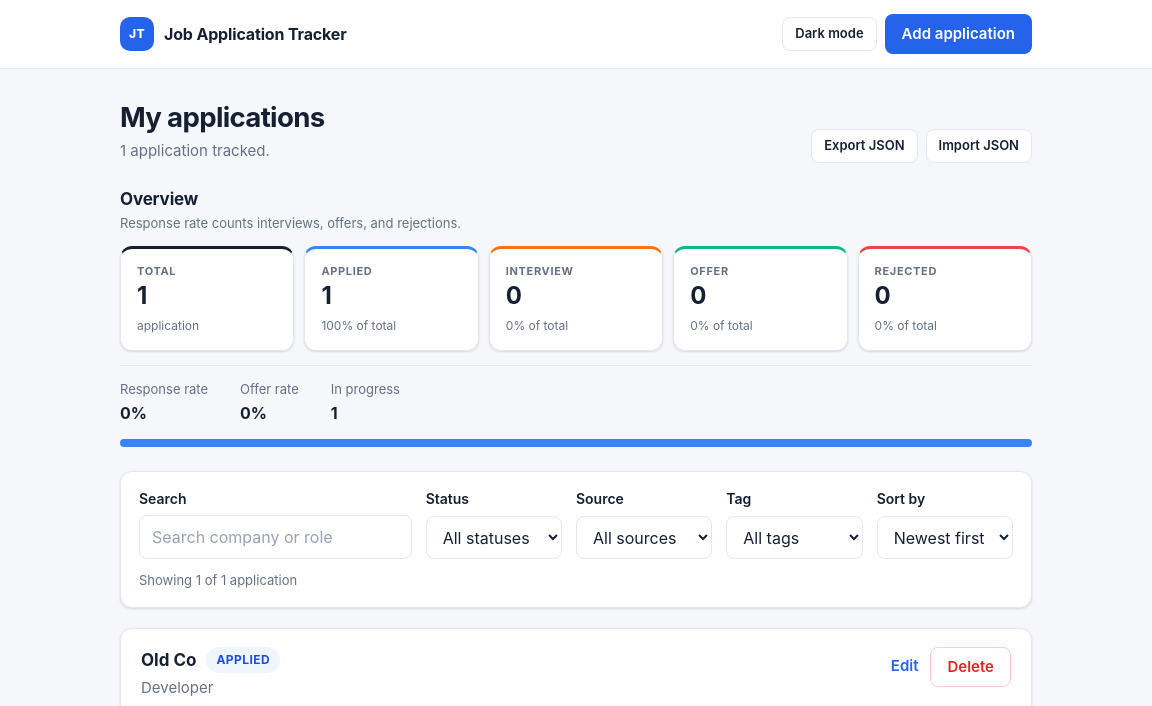
Test: edits an existing job application
This screenshot has width=1152, height=706.
Click the link "Edit" at (905, 667), box [891,655,918,678]
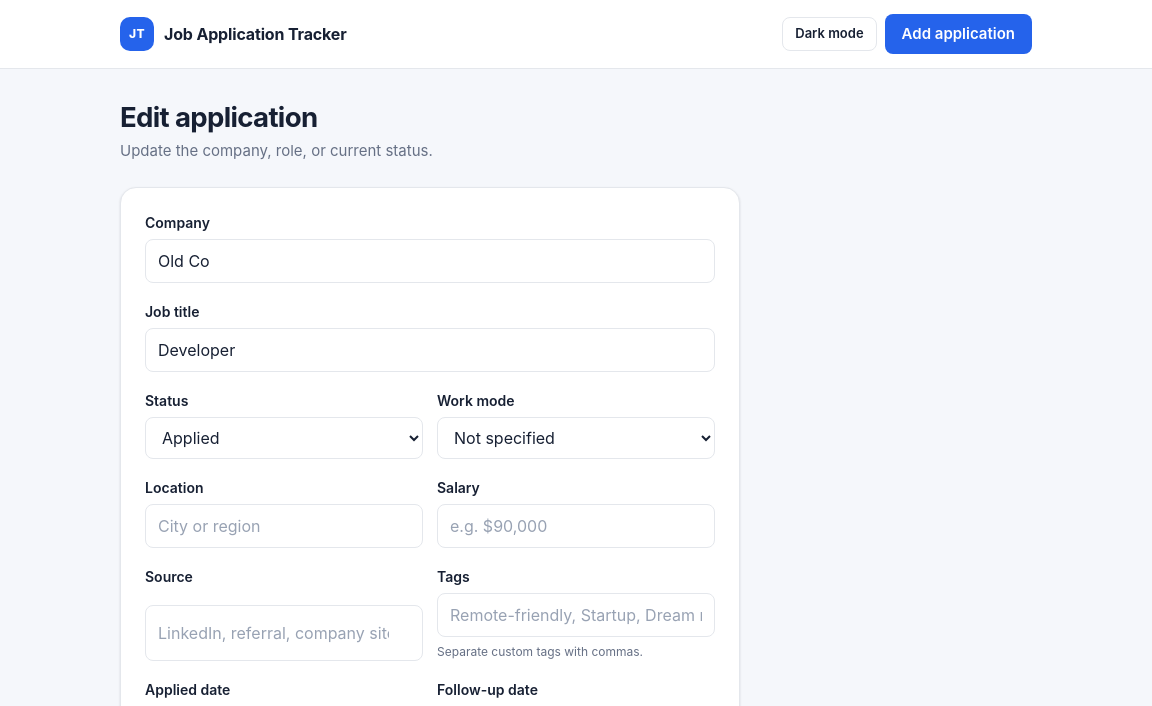
Now the field with placeholder "Company" holds "Old Co"
Replace the text in the field with placeholder "Company" with "New Co" at (430, 261), box [145,239,715,283]
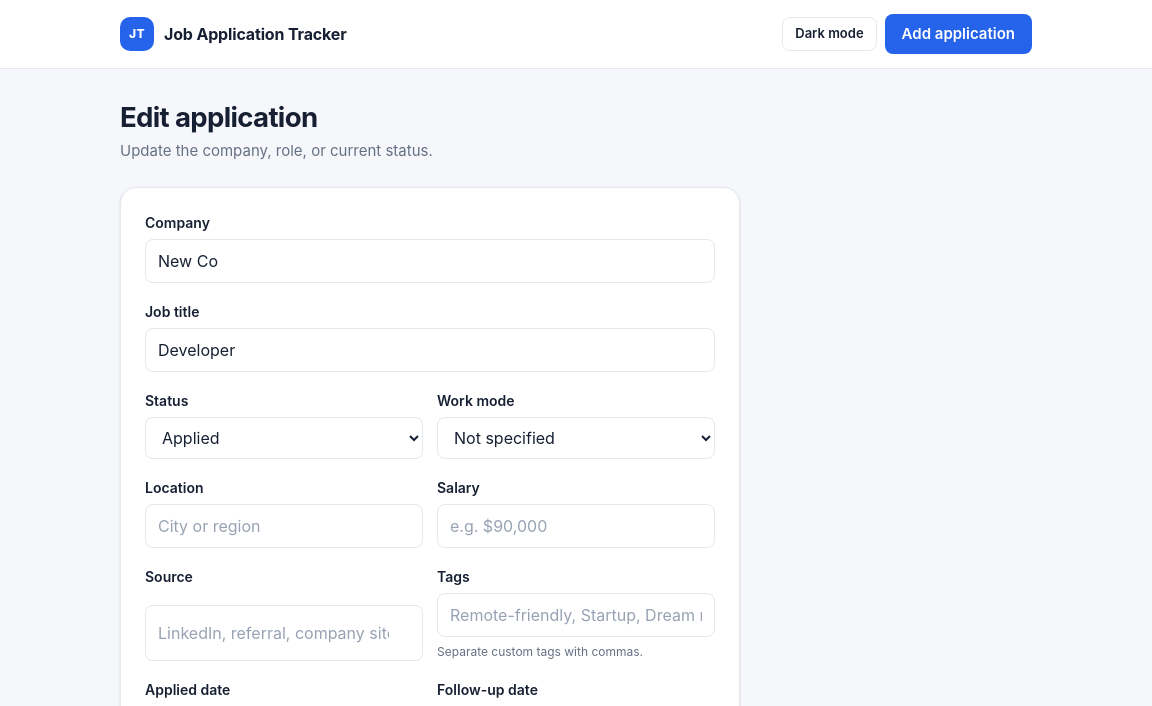
Select "Interview" in the dropdown labelled "Status" at (284, 438), box [145,417,423,459]
(page scrolled)
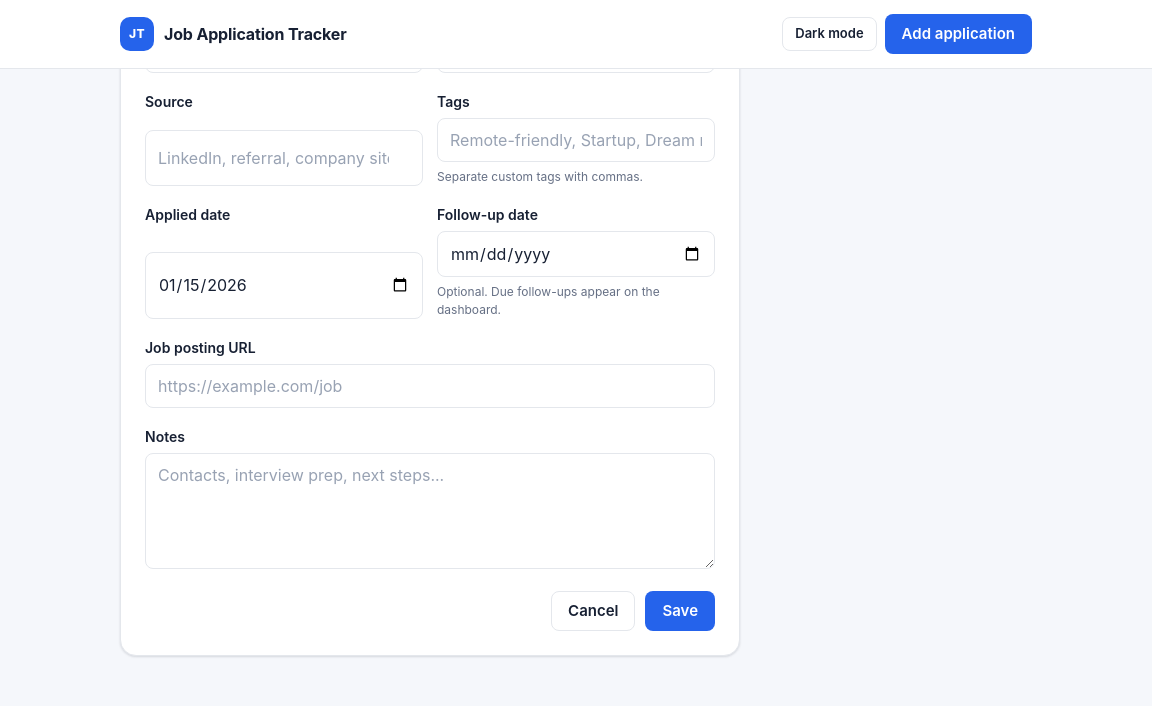
Click the button "Save" at (680, 611), box [646,591,715,631]
(page scrolled)
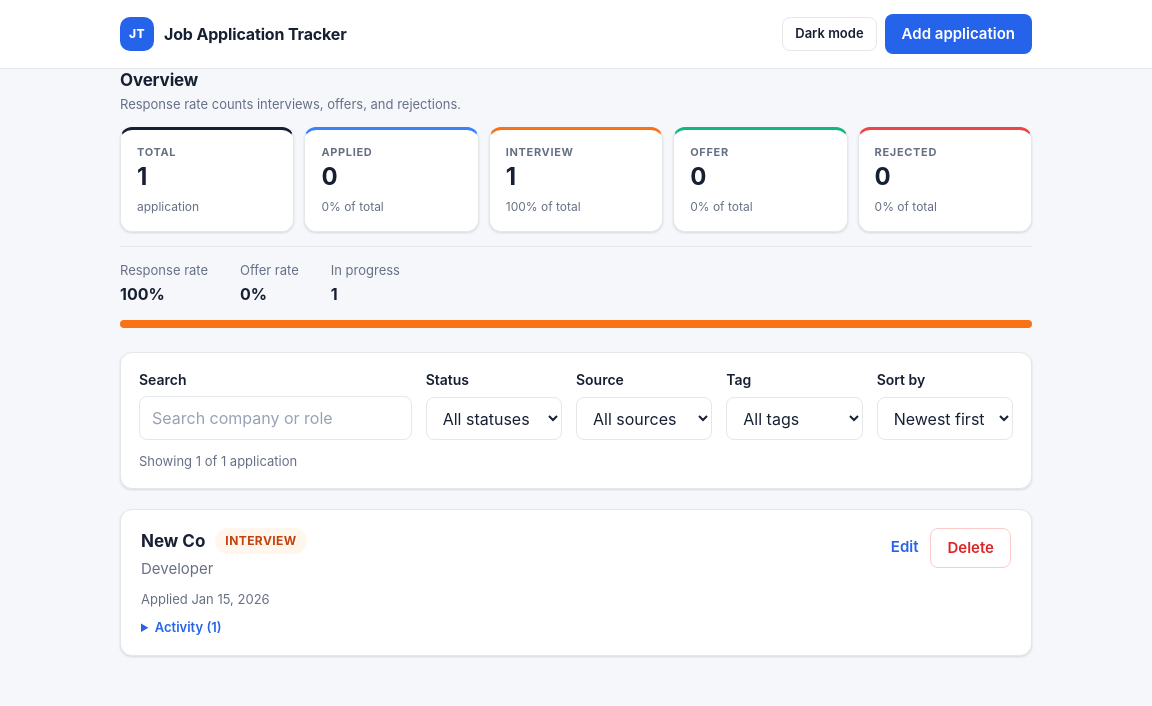
Now the heading "New Co" is shown, box [141,530,205,552]
